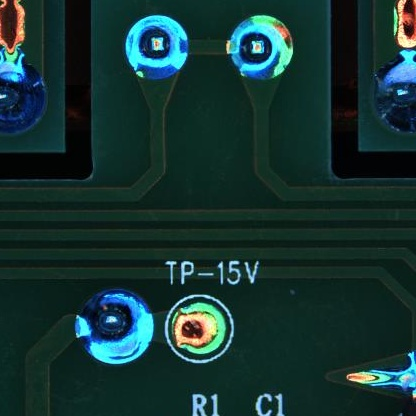spot: (75, 287, 155, 366), (125, 15, 191, 79), (230, 14, 292, 78), (170, 297, 227, 358)
